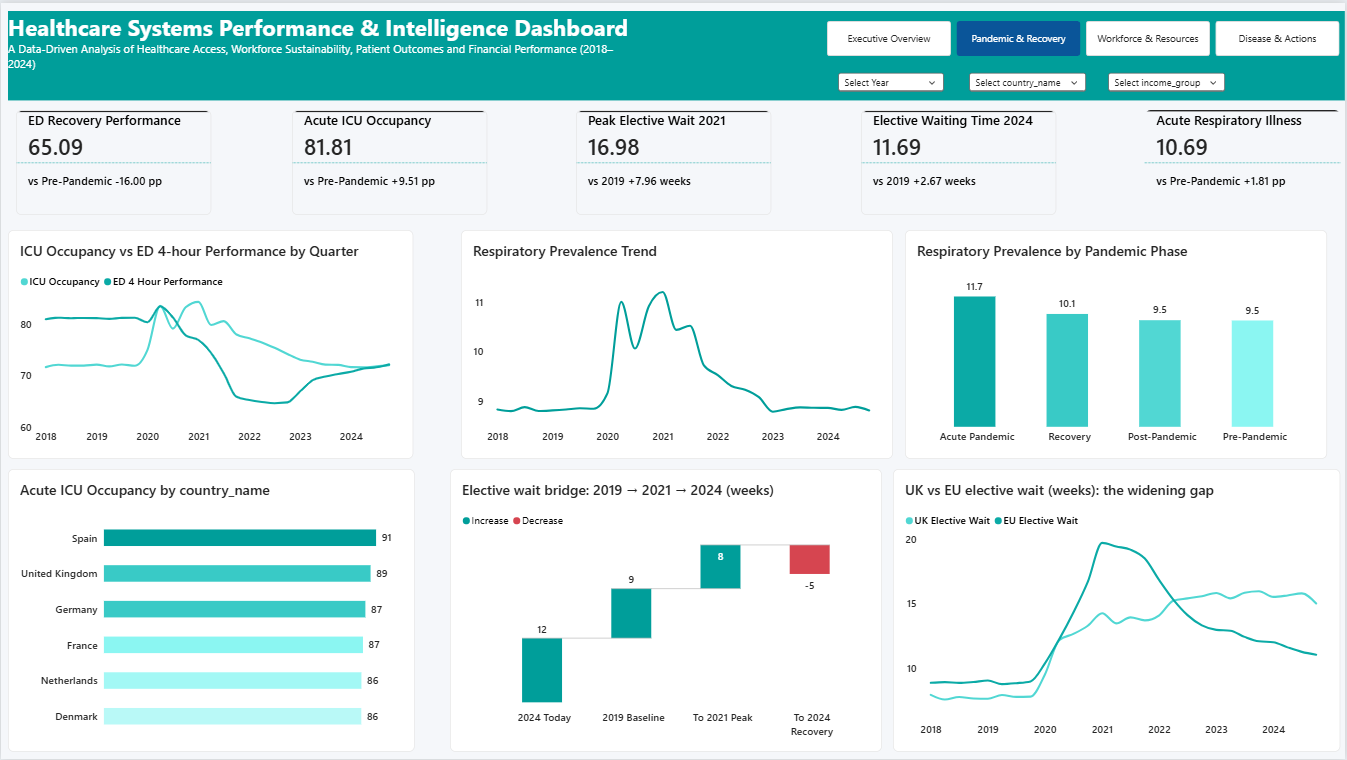

The dashboard page shown, as its layout file describes it:
{"tool":"powerbi","page":{"name":"Pandemic & Recovery","canvas":[1920,1080],"ordinal":1},"visuals":[{"type":"shape","box":[10.5,11.9,1909.8,127.8],"z":0},{"type":"cardVisual","fields":{"Data":["Measure (2).Acute ICU Occupancy"]},"box":[416.1,152.9,279.2,150.1],"z":1000},{"type":"cardVisual","fields":{"Data":["Measure (2).Peak Elective Wait 2021"]},"box":[822.1,152.9,279.2,150.1],"z":2000},{"type":"cardVisual","fields":{"Data":["Measure (2).Elective Waiting Time 2024"]},"box":[1228.2,152.9,279.2,150.1],"z":3000},{"type":"cardVisual","fields":{"Data":["Measure (2).Acute Respiratory Illness"]},"box":[1634.3,152.9,279.2,150.1],"z":4000},{"type":"lineChart","title":"ICU Occupancy vs ED 4-hour Performance by Quarter","fields":{"Category":["dim_date.quarter_start_date.Variation.Date Hierarchy.Year","dim_date.quarter_start_date.Variation.Date Hierarchy.Quarter"],"Y":["Measure (2).ICU Occupancy","Measure (2).ED 4 Hour Performance"]},"box":[10,324.3,578.6,327.1],"z":5000},{"type":"lineChart","title":"Respiratory Prevalence  Trend","fields":{"Category":["dim_date.quarter_start_date.Variation.Date Hierarchy.Year","dim_date.quarter_start_date.Variation.Date Hierarchy.Quarter"],"Y":["Measure (2).Respiratory Illness Prevalence"]},"box":[657.1,324.3,617.1,327.1],"z":6000},{"type":"clusteredBarChart","fields":{"Category":["dim_country.country_name"],"Y":["Measure (2).Acute ICU Occupancy"]},"box":[10,665.7,581.4,404.3],"z":7000},{"type":"clusteredColumnChart","title":"Respiratory Prevalence by Pandemic Phase","fields":{"Category":["dim_date.pandemic_phase"],"Y":["Measure (2).Respiratory Illness Prevalence"]},"box":[1291.4,324.3,602.9,327.1],"z":8000},{"type":"cardVisual","fields":{"Data":["Measure (2).ED Recovery Performance"]},"box":[21.4,152.9,279.2,150.1],"z":9000},{"type":"waterfallChart","title":"Elective wait bridge: 2019 → 2021 → 2024 (weeks)","fields":{"Category":["Elective Waterfall Steps.Step"],"Y":["Measure (2).Elective Waterfall Value"]},"box":[641.4,665.7,617,404],"z":10000},{"type":"lineChart","title":"UK vs EU elective wait (weeks): the widening gap","fields":{"Category":["dim_date.quarter_start_date.Variation.Date Hierarchy.Year","dim_date.quarter_start_date.Variation.Date Hierarchy.Quarter"],"Y":["Measure (2).UK Elective Wait","Measure (2).EU Elective Wait"]},"box":[1274.3,665.7,638.6,404.3],"z":11000},{"type":"textbox","box":[10,11.4,897.1,128.6],"z":12000},{"type":"pageNavigator","box":[1180,25.7,732.9,50],"z":13000},{"type":"listSlicer","fields":{"Values":["dim_date.quarter_end_date.Variation.Date Hierarchy.Year"]},"box":[1180,85.7,182.9,52.9],"z":13001},{"type":"listSlicer","fields":{"Values":["dim_country.country_name"]},"box":[1367.1,85.7,198.6,52.9],"z":13002},{"type":"listSlicer","fields":{"Values":["dim_country.income_group"]},"box":[1565.7,85.7,198.6,52.9],"z":13003}]}

Visuals, with their boxes in screenshot pixels (x1, y1, x2, y2), scaled from the page's 1920x1080 canvas onto the 1347x760 screenshot:
shape: <bbox>7, 8, 1346, 98</bbox>
cardVisual - Measure (2).Acute ICU Occupancy: <bbox>292, 108, 488, 213</bbox>
cardVisual - Measure (2).Peak Elective Wait 2021: <bbox>577, 108, 773, 213</bbox>
cardVisual - Measure (2).Elective Waiting Time 2024: <bbox>862, 108, 1058, 213</bbox>
cardVisual - Measure (2).Acute Respiratory Illness: <bbox>1147, 108, 1342, 213</bbox>
"ICU Occupancy vs ED 4-hour Performance by Quarter" lineChart: <bbox>7, 228, 413, 458</bbox>
"Respiratory Prevalence  Trend" lineChart: <bbox>461, 228, 894, 458</bbox>
clusteredBarChart - dim_country.country_name x Measure (2).Acute ICU Occupancy: <bbox>7, 468, 415, 753</bbox>
"Respiratory Prevalence by Pandemic Phase" clusteredColumnChart: <bbox>906, 228, 1329, 458</bbox>
cardVisual - Measure (2).ED Recovery Performance: <bbox>15, 108, 211, 213</bbox>
"Elective wait bridge: 2019 → 2021 → 2024 (weeks)" waterfallChart: <bbox>450, 468, 883, 753</bbox>
"UK vs EU elective wait (weeks): the widening gap" lineChart: <bbox>894, 468, 1342, 753</bbox>
textbox: <bbox>7, 8, 636, 99</bbox>
pageNavigator: <bbox>828, 18, 1342, 53</bbox>
listSlicer - dim_date.quarter_end_date.Variation.Date Hierarchy.Year: <bbox>828, 60, 956, 98</bbox>
listSlicer - dim_country.country_name: <bbox>959, 60, 1098, 98</bbox>
listSlicer - dim_country.income_group: <bbox>1098, 60, 1238, 98</bbox>
